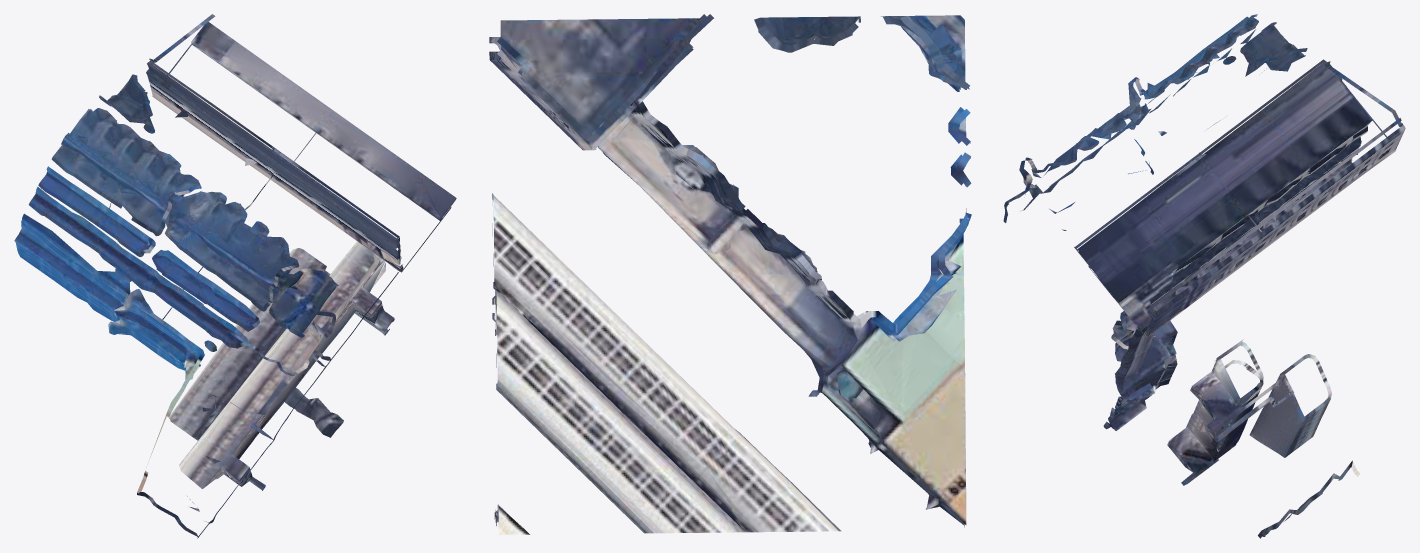
3 views of the same model, side by side, from view 1: azimuth 30°, elevation 25°; view 2: azimuth 150°, elevation 25°; view 3: azimuth 270°, elevation 25° (orthographic). The views are drawn at different scales.
Bounding box in the file's own units: 50.01 × 50.45 × 45.82.
2 materials, 2 textured.
